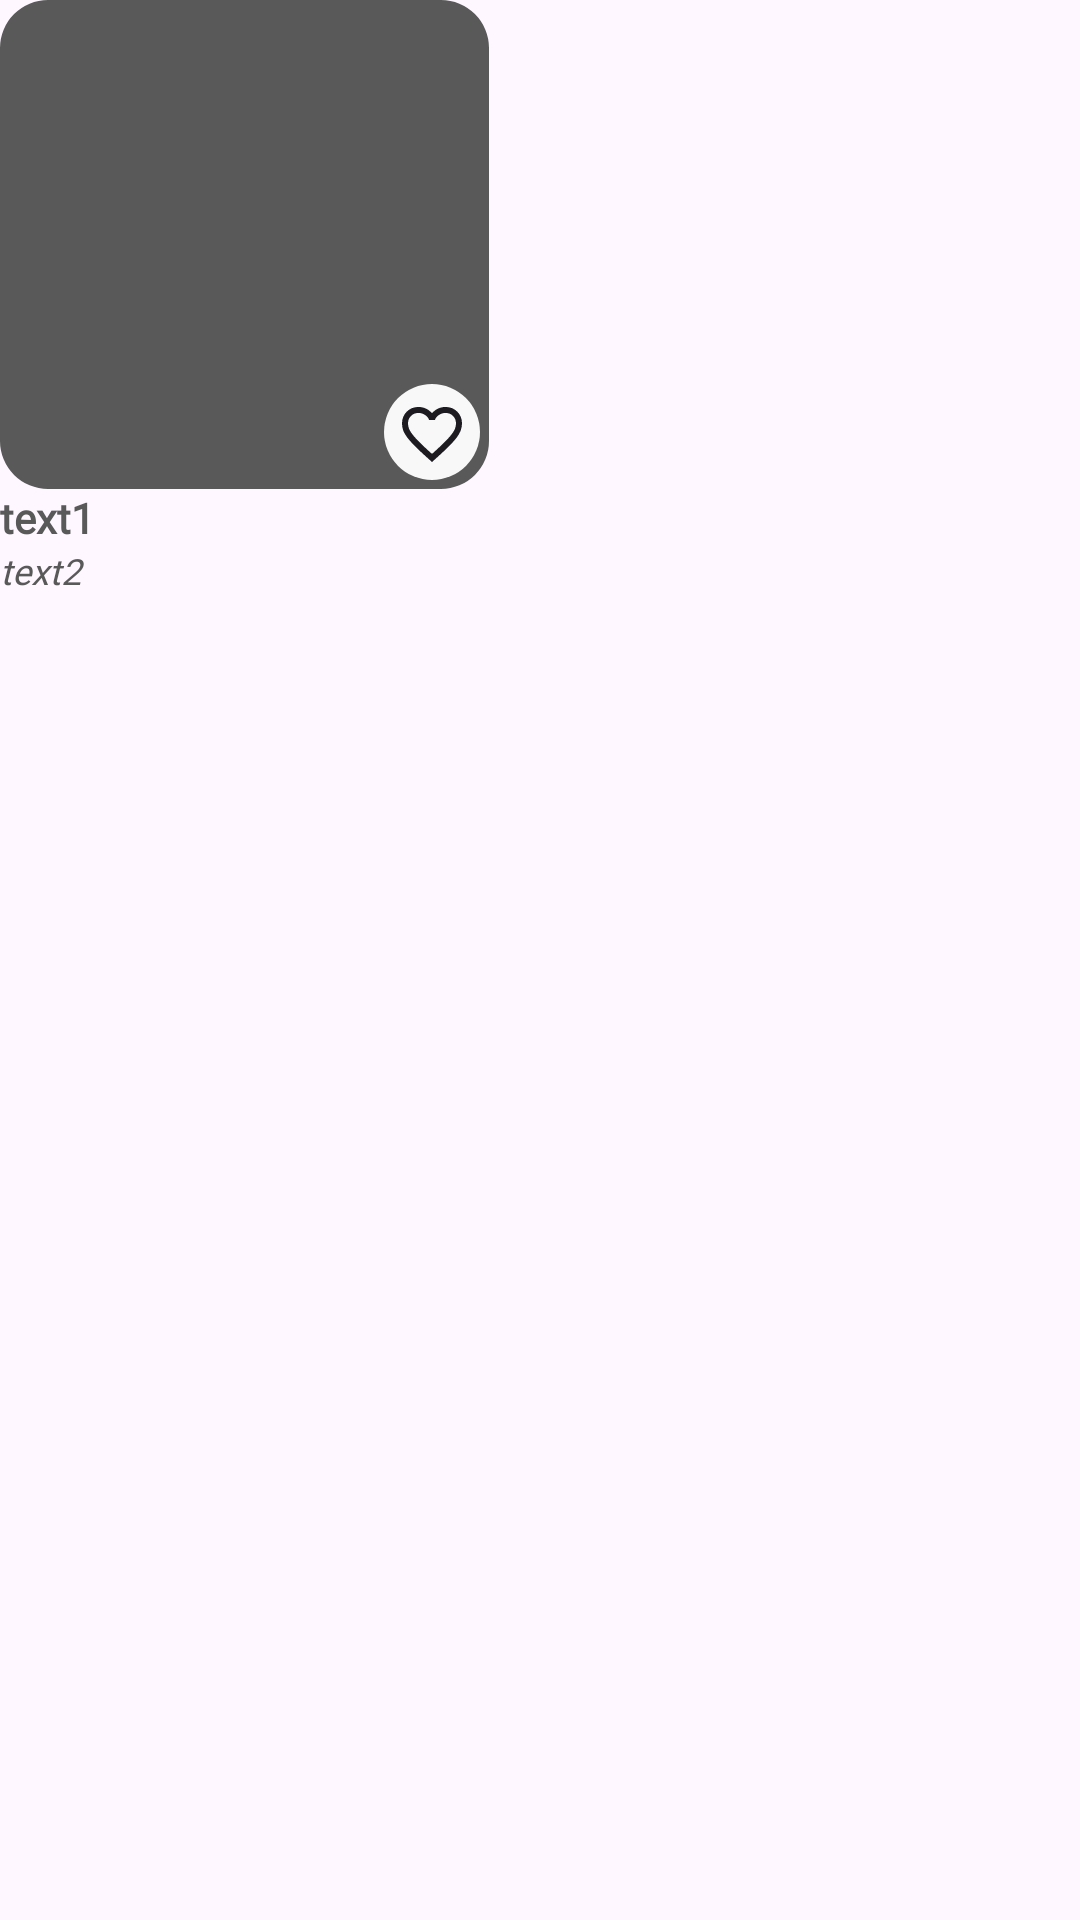

Where to tap for icons on this 1080 x 1920 app screen, as [x,y]:
fav: [432,432]
